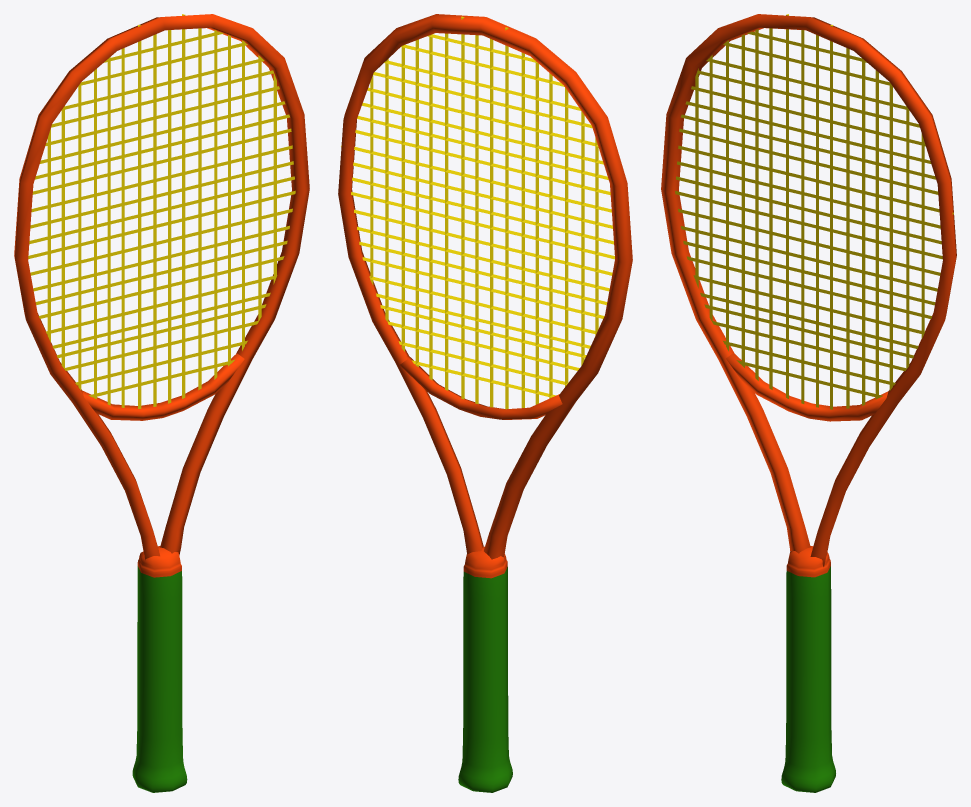
File: Tennis_Racquet_5.obj
3 renders of one model, left to right at view 1: azimuth 30°, elevation 25°; view 2: azimuth 150°, elevation 25°; view 3: azimuth 330°, elevation 25°, orthographic.
Visible parts, largest first — view 1: Cube.1755; view 2: Cube.1755; view 3: Cube.1755.
Boxes of the visible parts, x1,y1,x2,y2 form: Cube.1755: (14, 14, 309, 792); Cube.1755: (338, 14, 632, 792); Cube.1755: (661, 14, 956, 792).
Size of the model in its own units: 0.0219 by 0.0546 by 0.00344.
